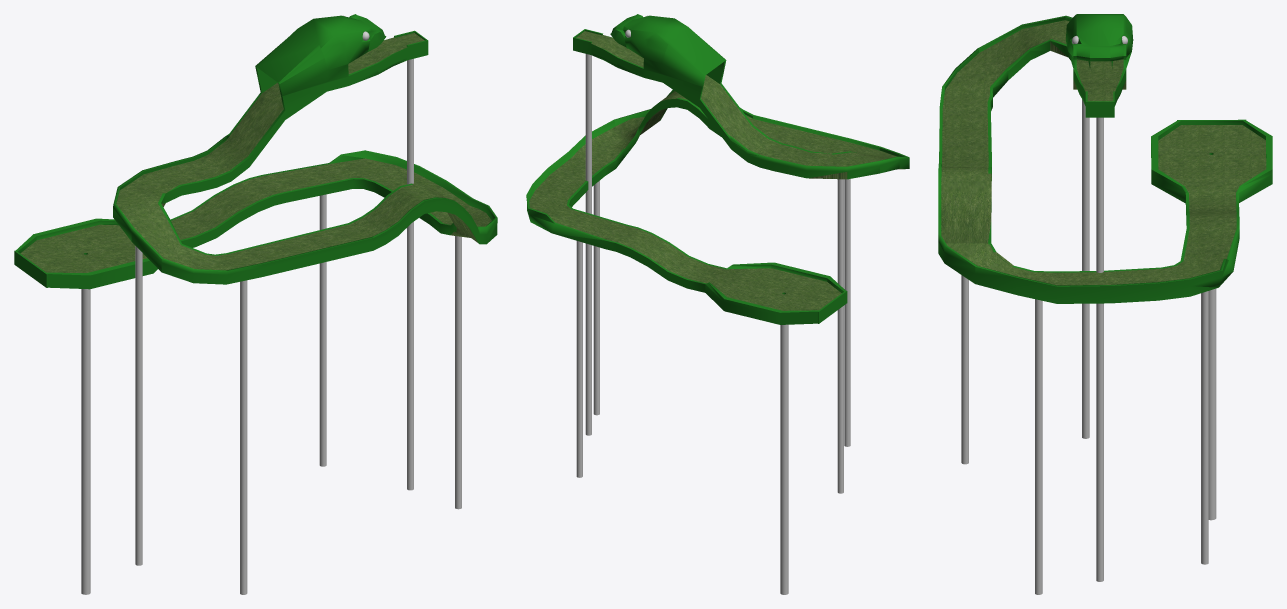
The model's file is Hole.obj.
3 renders of one model, left to right at view 1: azimuth 30°, elevation 25°; view 2: azimuth 150°, elevation 25°; view 3: azimuth 270°, elevation 25°, orthographic. The views are drawn at different scales.
Visible parts, largest first — view 1: snek, grass, ungrouped; view 2: snek, grass, ungrouped; view 3: grass, snek, ungrouped.
Part boxes in pixels (box(x1,y1,x2,y2)): snek: box(14, 14, 497, 289); grass: box(20, 33, 491, 272); ungrouped: box(81, 15, 461, 594); snek: box(526, 14, 909, 324); grass: box(529, 31, 905, 310); ungrouped: box(576, 15, 850, 594); grass: box(941, 20, 1266, 285); snek: box(938, 14, 1272, 303); ungrouped: box(961, 35, 1216, 594).
Bounding box in the file's own units: 322 × 464 × 234.
Materials: 2 (1 with a texture image).
